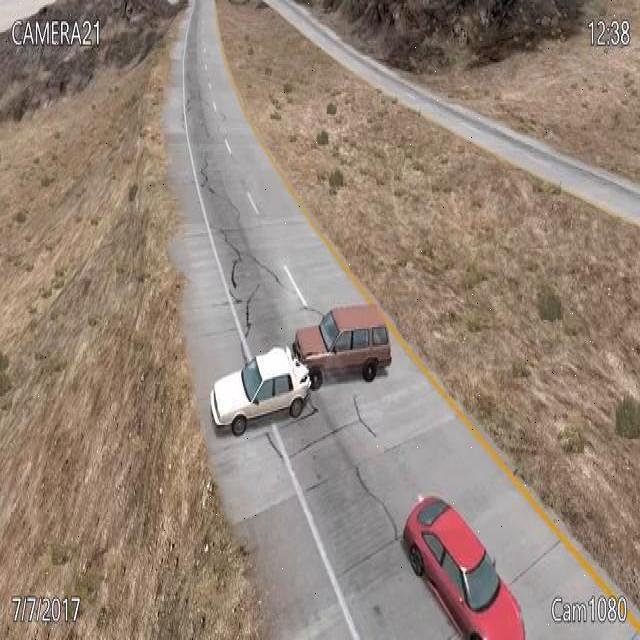moderate: (207, 299, 394, 442)
